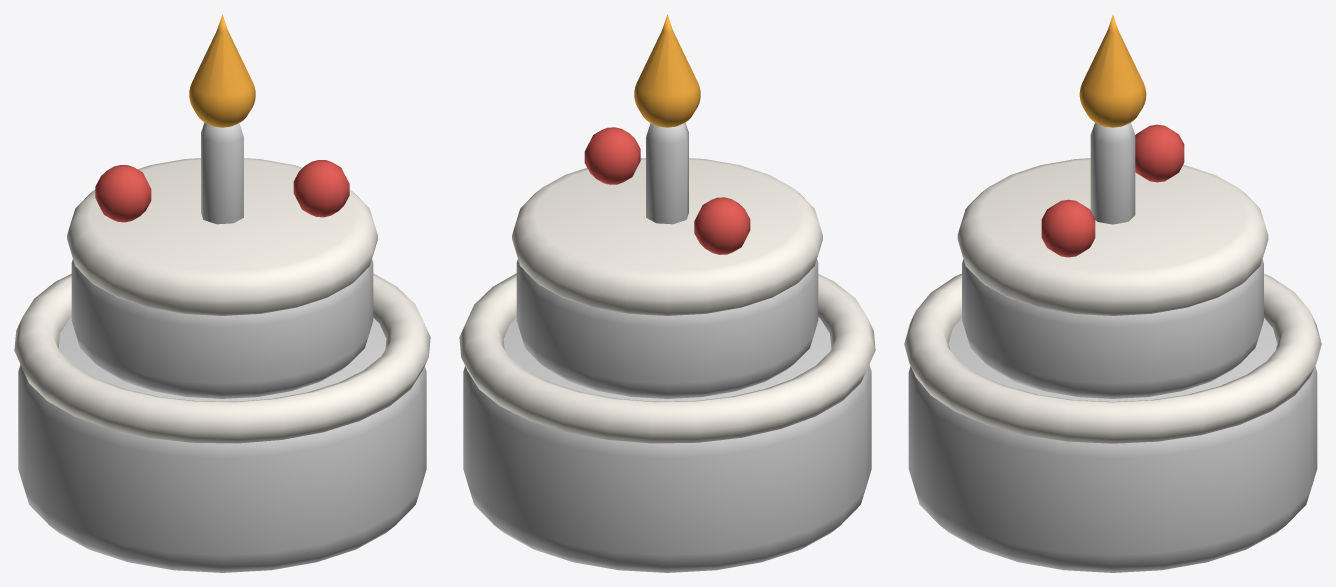
The model's file is cake.glb.
3 views of the same model, side by side, from view 1: azimuth 30°, elevation 25°; view 2: azimuth 150°, elevation 25°; view 3: azimuth 270°, elevation 25° (orthographic).
Visible parts, largest first — view 1: cake; view 2: cake; view 3: cake.
Boxes of the visible parts, x1=… form: cake: x1=14, y1=14, x2=430, y2=572; cake: x1=459, y1=14, x2=875, y2=572; cake: x1=904, y1=15, x2=1321, y2=572.
Size of the model in its own units: 0.7833 by 1 by 0.7833.
